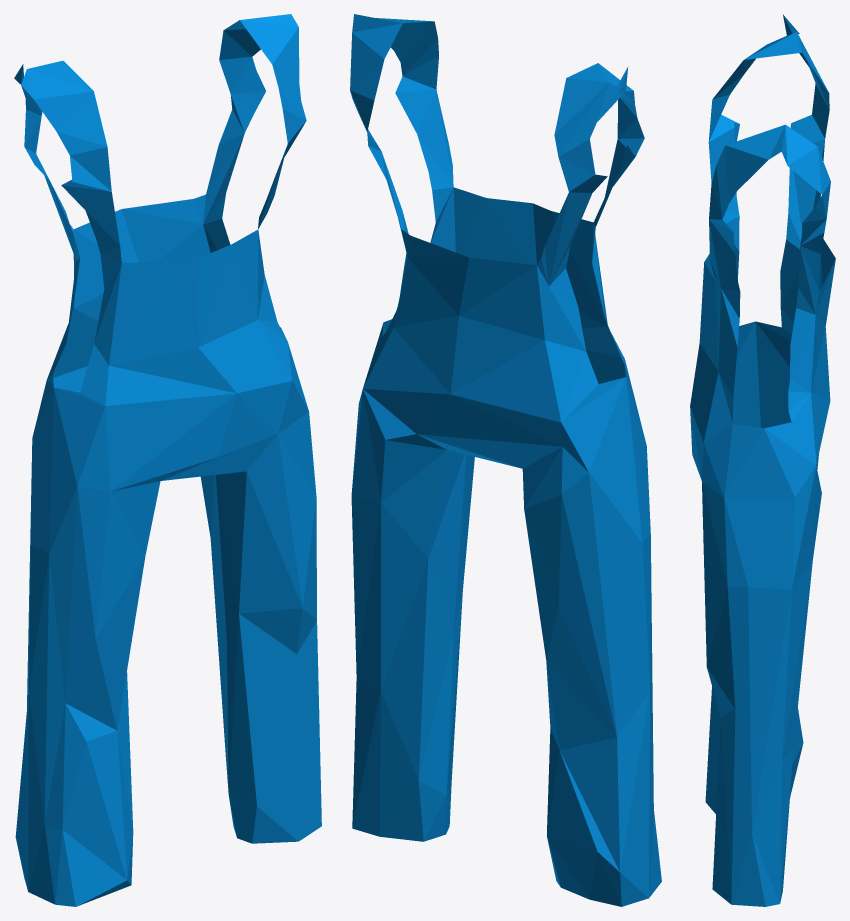
File: FarmerTrouser.fbx
3 views of the same model, side by side, from view 1: azimuth 30°, elevation 25°; view 2: azimuth 150°, elevation 25°; view 3: azimuth 270°, elevation 25° (orthographic). The views are drawn at different scales.
Visible parts, largest first — view 1: Touser; view 2: Touser; view 3: Touser.
Part boxes in pixels (box(x1,y1,x2,y2)): Touser: box(14, 14, 321, 906); Touser: box(350, 14, 661, 906); Touser: box(690, 14, 835, 906).
Bounding box in the file's own units: 1.24 × 3.41 × 0.5832.
